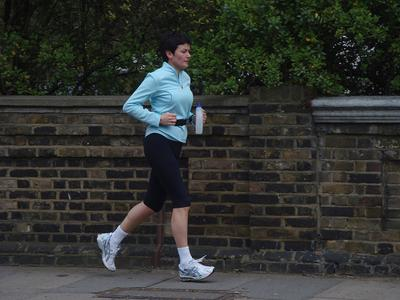person: (98, 36, 218, 282)
